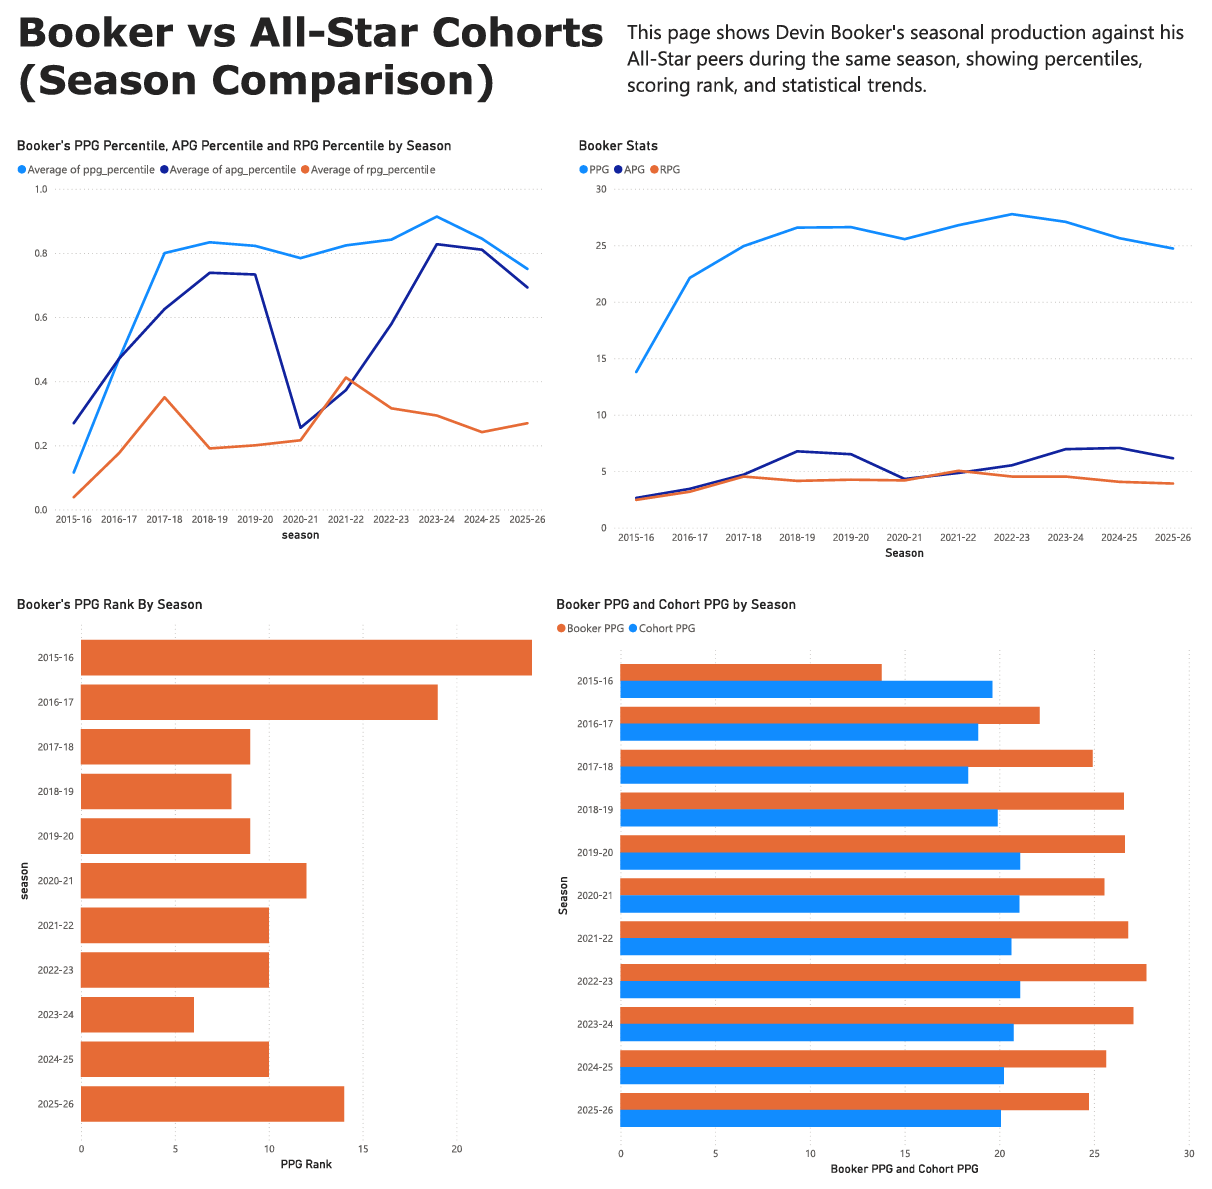

Layout of this report page (visuals, bound fields, positions):
{"tool":"powerbi","page":{"name":"Page 2","canvas":[1440,1440],"ordinal":1},"visuals":[{"type":"lineChart","title":"Booker''s PPG Percentile, APG Percentile and RPG Percentile by Season","fields":{"Category":["public mart_booker_vs_cohort_percentiles.season"],"Y":["Avg(public mart_booker_vs_cohort_percentiles.ppg_percentile)","Avg(public mart_booker_vs_cohort_percentiles.apg_percentile)","Avg(public mart_booker_vs_cohort_percentiles.rpg_percentile)"]},"box":[0,163.3,655,495],"z":0},{"type":"barChart","title":"Booker''s PPG Rank By Season","fields":{"Category":["public mart_booker_vs_cohort_percentiles.season"],"Y":["Avg(public mart_booker_vs_cohort_percentiles.ppg_rank)"]},"box":[0,720,641.7,703.3],"z":1000},{"type":"clusteredBarChart","fields":{"Category":["public mart_booker_vs_cohort.season"],"Y":["Avg(public mart_booker_vs_cohort.ppg)","Avg(public mart_booker_vs_cohort.cohort_ppg_avg)"]},"box":[655,720,785,708.3],"z":2000},{"type":"lineChart","title":"Booker Stats","fields":{"Category":["public mart_booker_vs_cohort.season"],"Y":["Avg(public mart_booker_vs_cohort.ppg)","Avg(public mart_booker_vs_cohort.apg)","Avg(public mart_booker_vs_cohort.rpg)"]},"box":[681.7,163.3,758.3,516.7],"z":3000},{"type":"textbox","box":[0,0,742,136],"z":4000},{"type":"textbox","box":[741.2,12.5,698.8,150],"z":5000}]}

Visuals, with their boxes in screenshot pixels (x1, y1, x2, y2), scaled from the page's 1440x1440 canvas onto the 1212x1189 screenshot:
"Booker''s PPG Percentile, APG Percentile and RPG Percentile by Season" lineChart: 0,135,551,544
"Booker''s PPG Rank By Season" barChart: 0,594,540,1175
clusteredBarChart - public mart_booker_vs_cohort.season x Avg(public mart_booker_vs_cohort.ppg): 551,594,1211,1179
"Booker Stats" lineChart: 574,135,1211,561
textbox: 0,0,625,112
textbox: 624,10,1211,134
